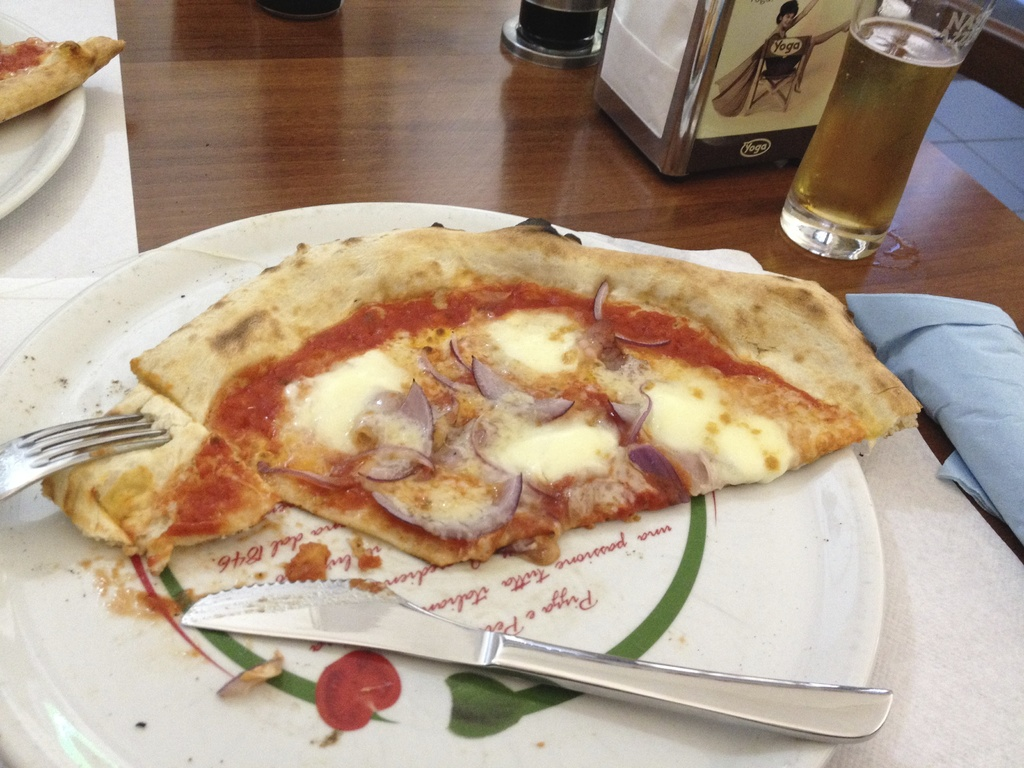Pizza: (79, 218, 866, 603), (0, 33, 126, 126)
